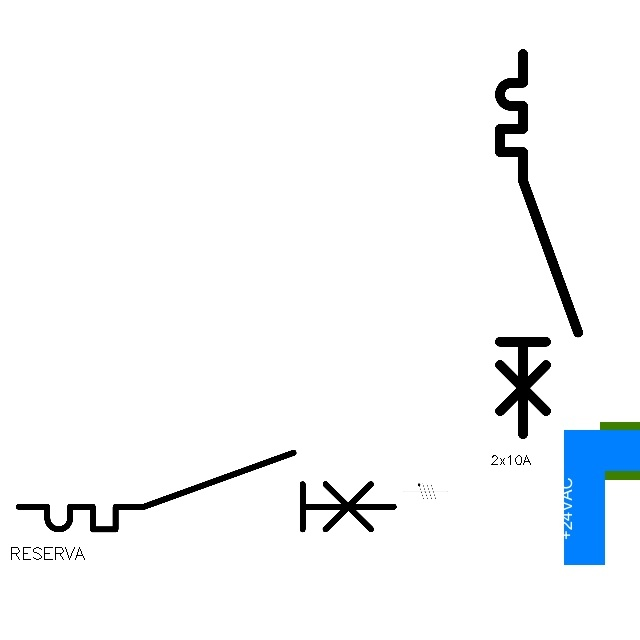interruptor_termomagnetico: (490, 44, 588, 444), (9, 443, 403, 539)
